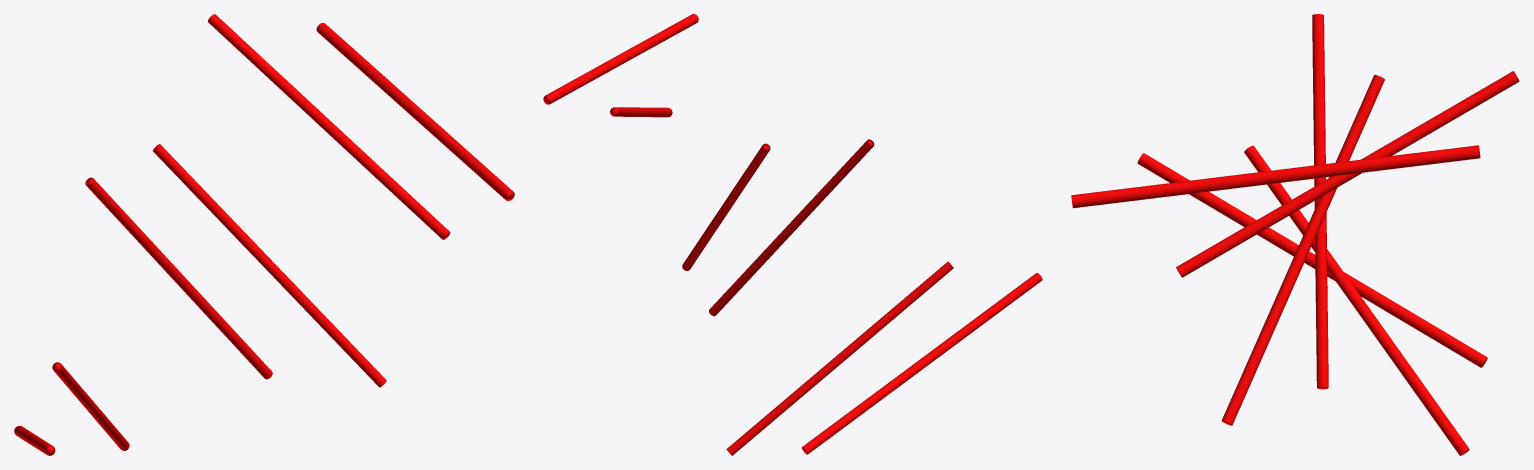
File: candidate.gltf
3 views of the same model, side by side, from view 1: azimuth 30°, elevation 25°; view 2: azimuth 150°, elevation 25°; view 3: azimuth 270°, elevation 25° (orthographic). The views are drawn at different scales.
Size of the model in its own units: 17.48 by 14.93 by 13.58.
